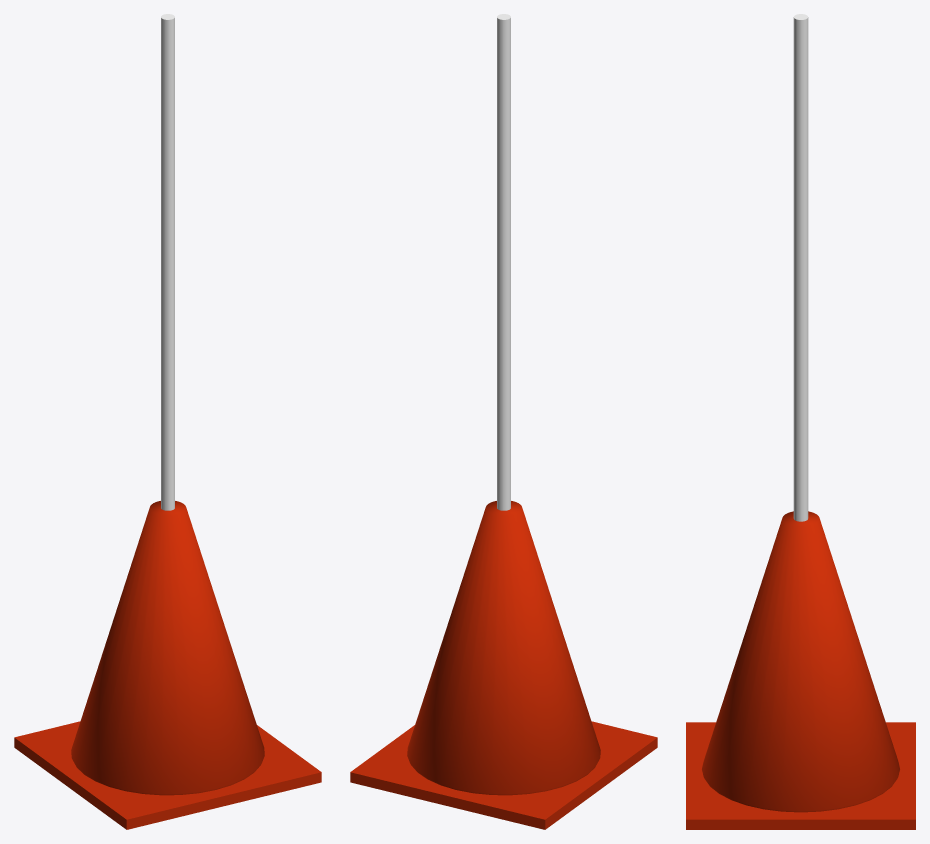
Rendered from trafficconewithstick.obj.
The picture shows the model from 3 angles, left to right: view 1: azimuth 30°, elevation 25°; view 2: azimuth 150°, elevation 25°; view 3: azimuth 270°, elevation 25°; orthographic projection. The views are drawn at different scales.
Parts seen in each view (by area): view 1: Cone, Cylinder; view 2: Cone, Cylinder; view 3: Cone, Cylinder.
Part boxes in pixels (<box>): Cone: <box>14,501,321,829</box>; Cylinder: <box>161,14,174,510</box>; Cone: <box>350,501,657,829</box>; Cylinder: <box>497,14,510,510</box>; Cone: <box>686,511,915,829</box>; Cylinder: <box>793,14,808,521</box>.
Bounding box in the file's own units: 0.4 × 1.47 × 0.4.
